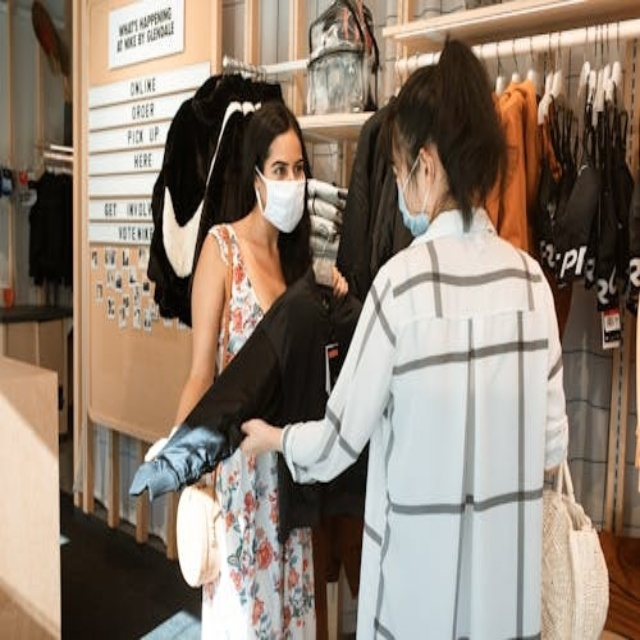Mascara: (254, 164, 306, 233), (397, 157, 434, 237)
Sin_gafas: (262, 148, 308, 183)
Sin_guantes: (238, 416, 280, 460), (329, 266, 349, 301)
